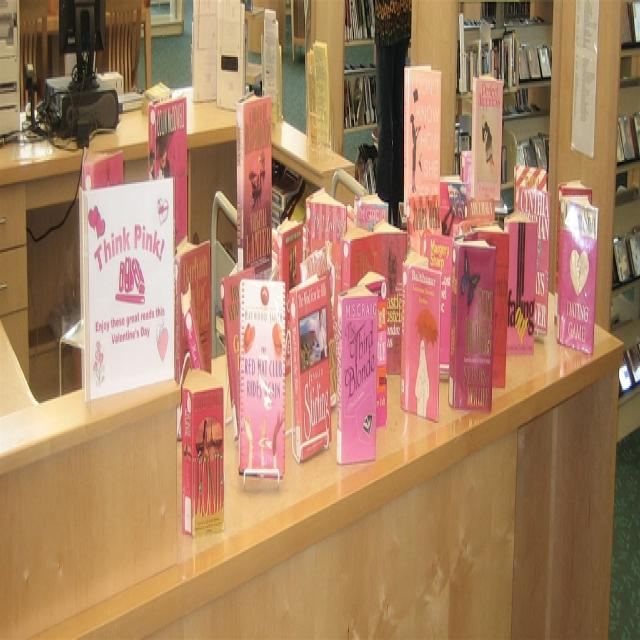desk: (0, 73, 624, 639)
